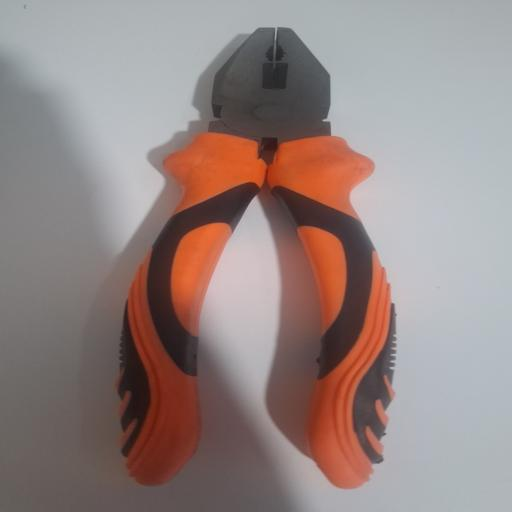alicate: (112, 26, 398, 491)
